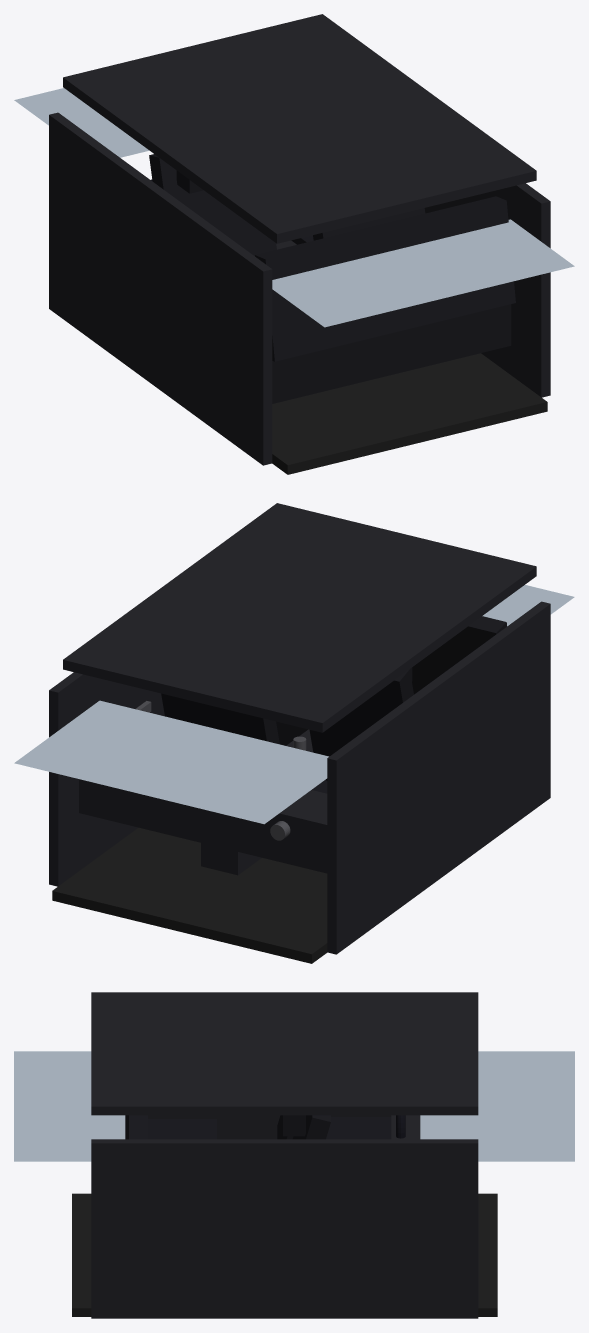
The model's file is car_interior.obj.
3 renders of one model, top to bottom at view 1: azimuth 30°, elevation 25°; view 2: azimuth 150°, elevation 25°; view 3: azimuth 270°, elevation 25°, orthographic. The views are drawn at different scales.
Parts seen in each view (by area): view 1: RoofLiner, DoorPanel_L, CarFloor, RearWindow, RearSeatBack, RearSeat, DoorPanel_R, DriverSeatBack, Windshield, PassengerSeatBack; view 2: RoofLiner, DoorPanel_L, CarFloor, Windshield, Dashboard, DoorPanel_R, DriverSeatBack, PassengerSeatBack, RearSeatBack, RearWindow, CenterConsole; view 3: DoorPanel_R, RoofLiner, Windshield, RearWindow, CarFloor, DoorPanel_L, DriverSeatBase, RearSeat, PassengerSeatBack, RearSeatBack, Dashboard, PassengerHeadrest.
Part boxes in pixels (left/top/right/bottom): RoofLiner: left=63, top=14, right=536, bottom=243; DoorPanel_L: left=49, top=112, right=272, bottom=465; CarFloor: left=272, top=353, right=547, bottom=474; RearWindow: left=272, top=219, right=574, bottom=327; RearSeatBack: left=255, top=196, right=515, bottom=361; RearSeat: left=272, top=304, right=511, bottom=403; DoorPanel_R: left=424, top=183, right=550, bottom=397; DriverSeatBack: left=149, top=154, right=276, bottom=255; Windshield: left=14, top=88, right=149, bottom=157; PassengerSeatBack: left=313, top=208, right=425, bottom=240; RoofLiner: left=63, top=503, right=536, bottom=732; DoorPanel_L: left=327, top=601, right=550, bottom=954; CarFloor: left=52, top=827, right=327, bottom=963; Windshield: left=14, top=700, right=328, bottom=824; Dashboard: left=79, top=779, right=327, bottom=873; DoorPanel_R: left=49, top=672, right=164, bottom=886; DriverSeatBack: left=309, top=669, right=413, bottom=756; PassengerSeatBack: left=161, top=693, right=279, bottom=744; RearSeatBack: left=412, top=616, right=506, bottom=694; RearWindow: left=482, top=585, right=574, bottom=626; CenterConsole: left=201, top=729, right=313, bottom=875; DoorPanel_R: left=91, top=1139, right=478, bottom=1318; RoofLiner: left=91, top=992, right=478, bottom=1115; Windshield: left=420, top=1051, right=574, bottom=1161; RearWindow: left=14, top=1051, right=125, bottom=1161; CarFloor: left=72, top=1193, right=497, bottom=1316; DoorPanel_L: left=148, top=1115, right=391, bottom=1139; DriverSeatBase: left=326, top=1117, right=391, bottom=1139; RearSeat: left=148, top=1119, right=216, bottom=1139; PassengerSeatBack: left=293, top=1115, right=330, bottom=1139; RearSeatBack: left=125, top=1115, right=147, bottom=1139; Dashboard: left=391, top=1115, right=420, bottom=1139; PassengerHeadrest: left=283, top=1115, right=305, bottom=1136.
Bounding box in the file's own units: 1.55 × 1.2 × 2.9.
